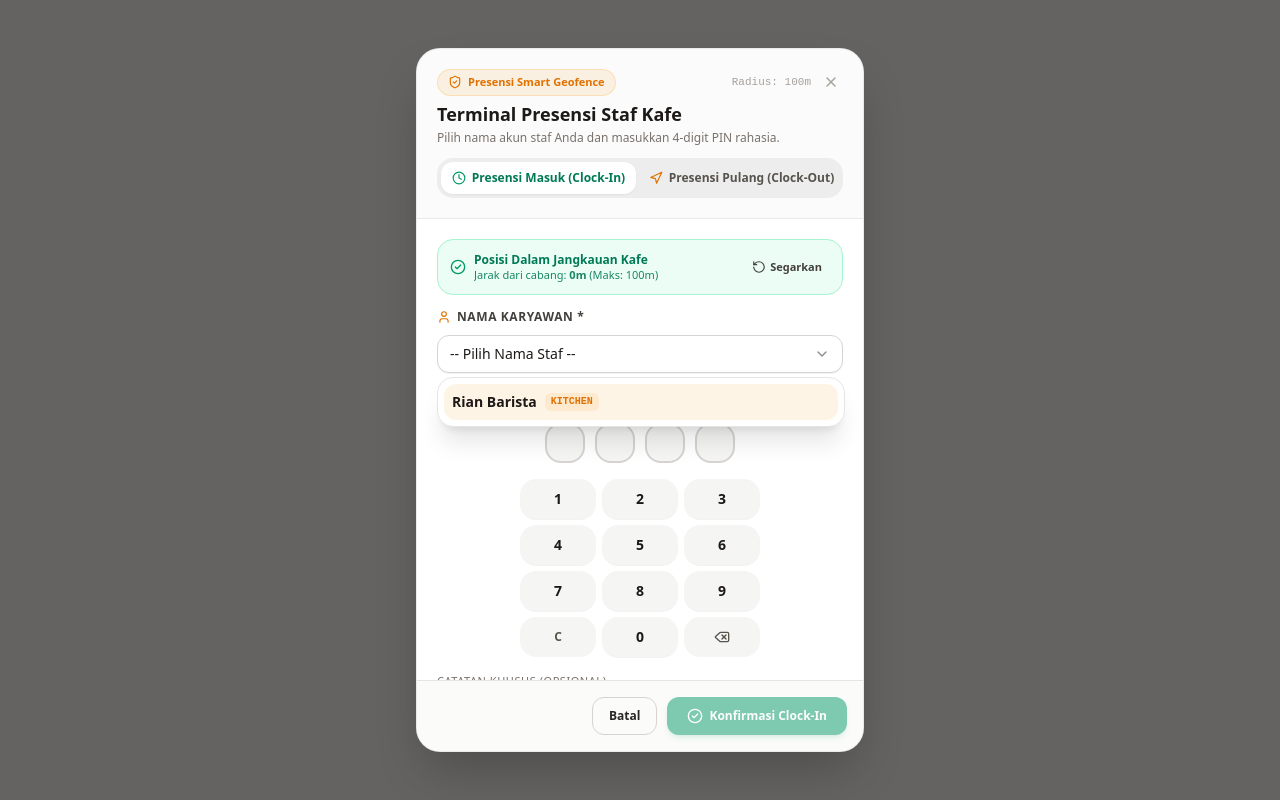
Test: ClockInModal Component › disables submit button when staff is not selected or PIN is incomplete
The width and height of the screenshot is (1280, 800).
Earlier steps of the test are not shown.
What coordinates should you click on to do the following:
click the text "Rian Barista"
I would click on:
 (494, 402)
Its box is [452,392,537,412].
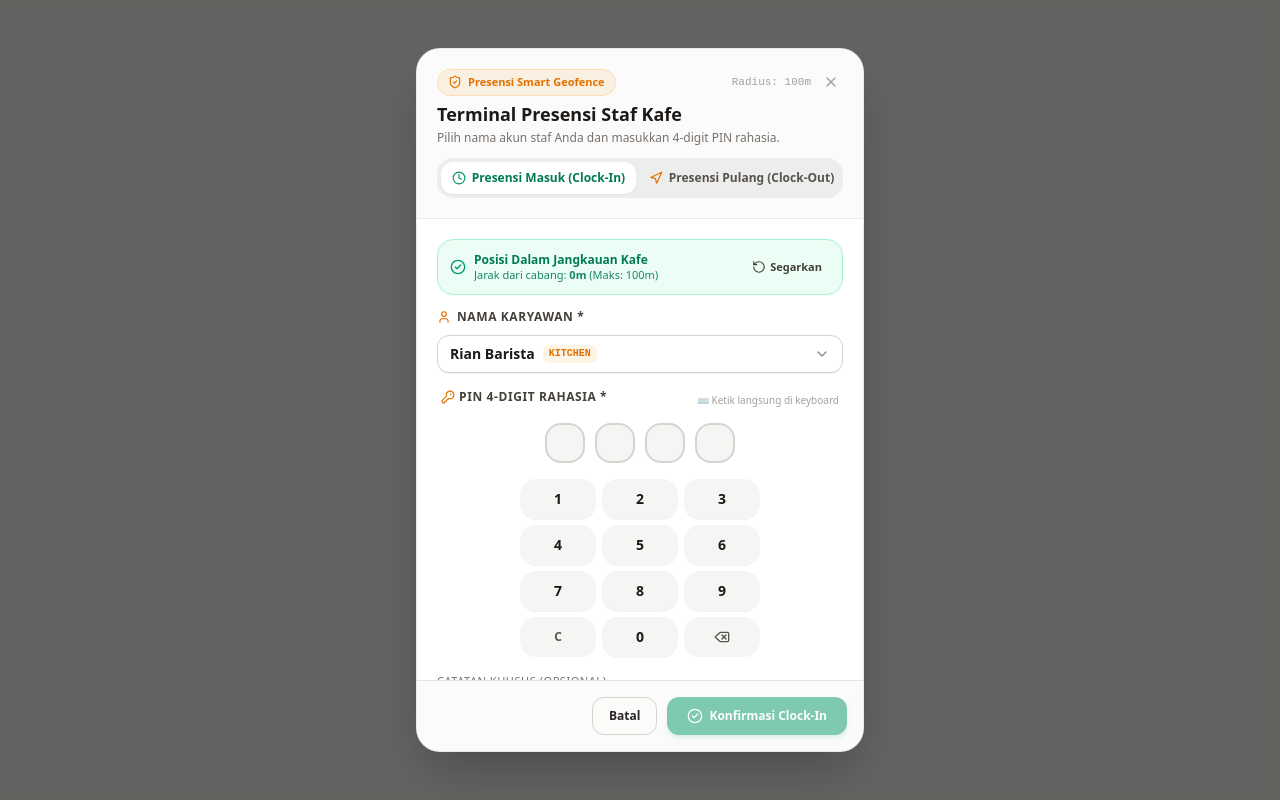
Expected: the button "Konfirmasi Clock-In" is disabled, [667,697,847,735]
What coordinates should you click on to do the following:
click the button "1"
I would click on:
 (558, 499)
Its box is [520,479,596,519].
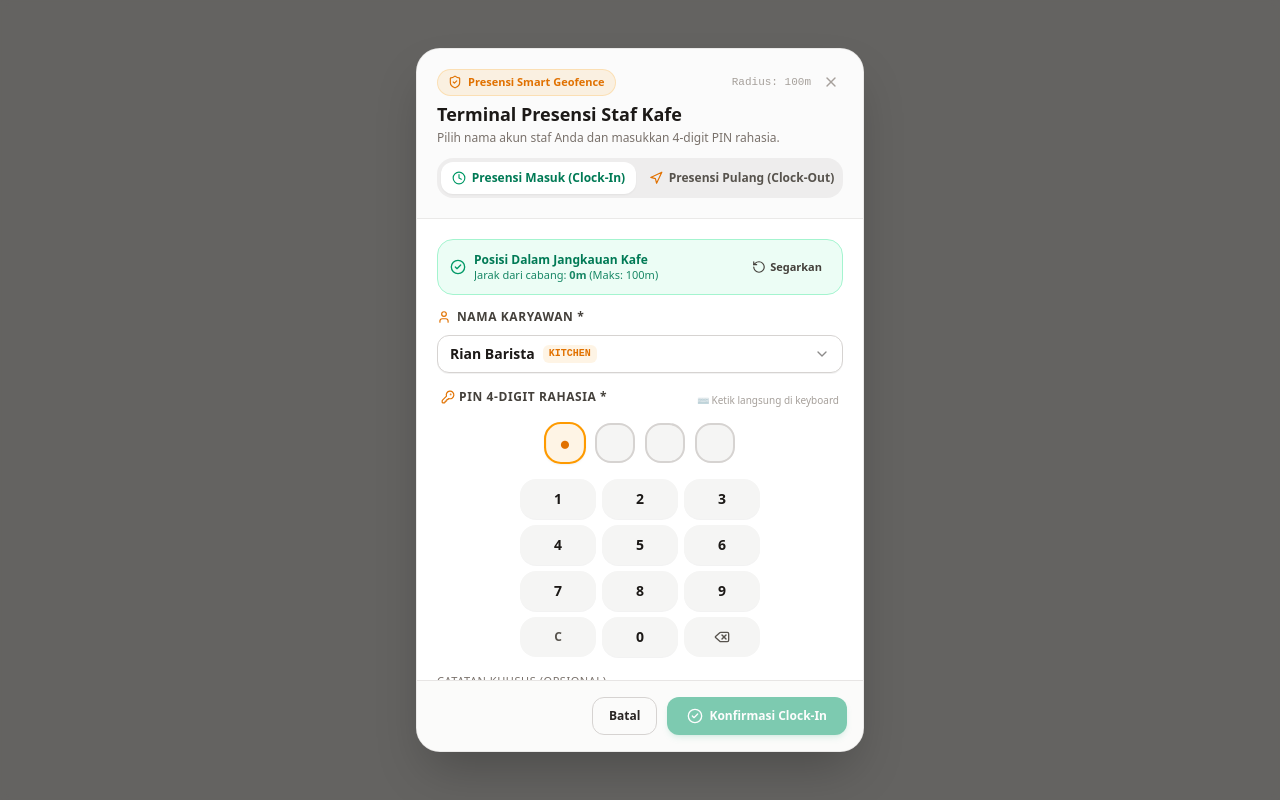
What coordinates should you click on to do the following:
click the button "2"
I would click on:
 (640, 499)
Its box is [602,479,678,519].
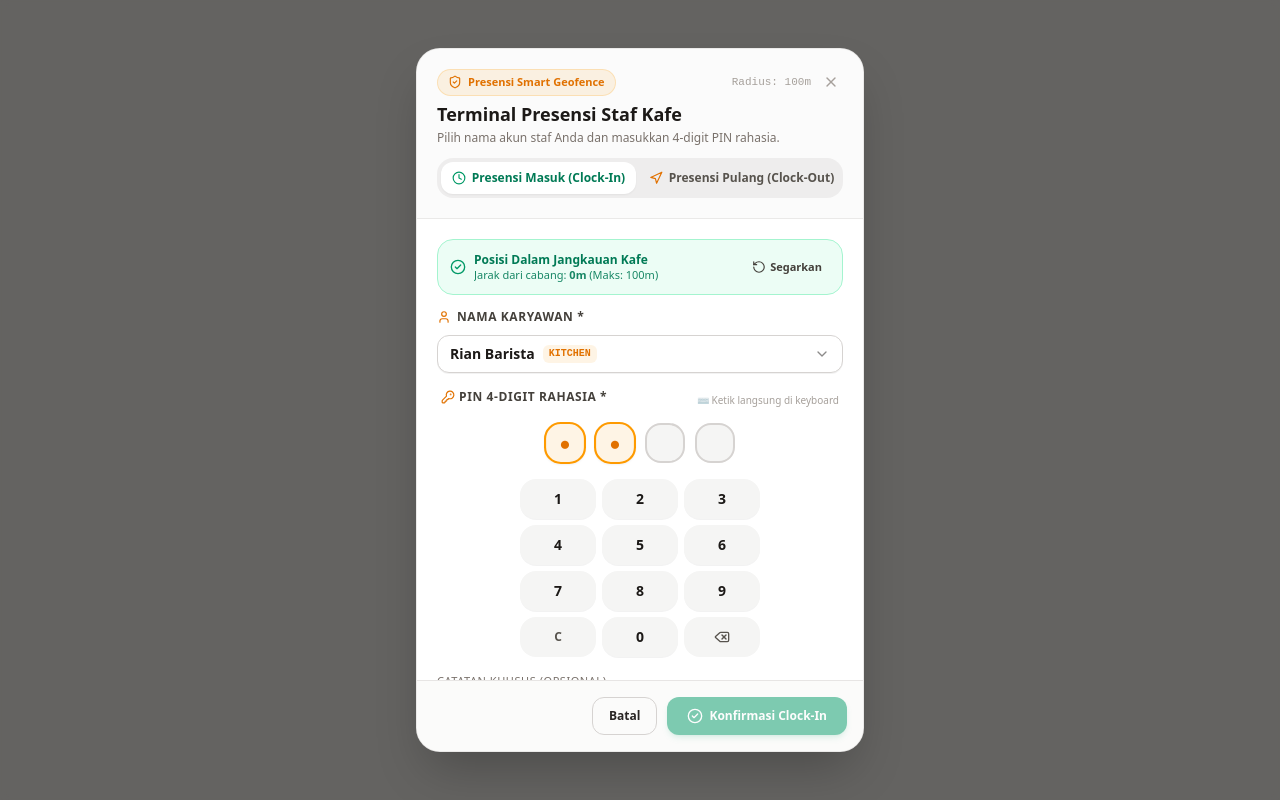
Expected: the button "Konfirmasi Clock-In" is disabled, [667,697,847,735]
What coordinates should you click on to do the following:
click the button "3"
I would click on:
 (722, 499)
Its box is [684,479,760,519].
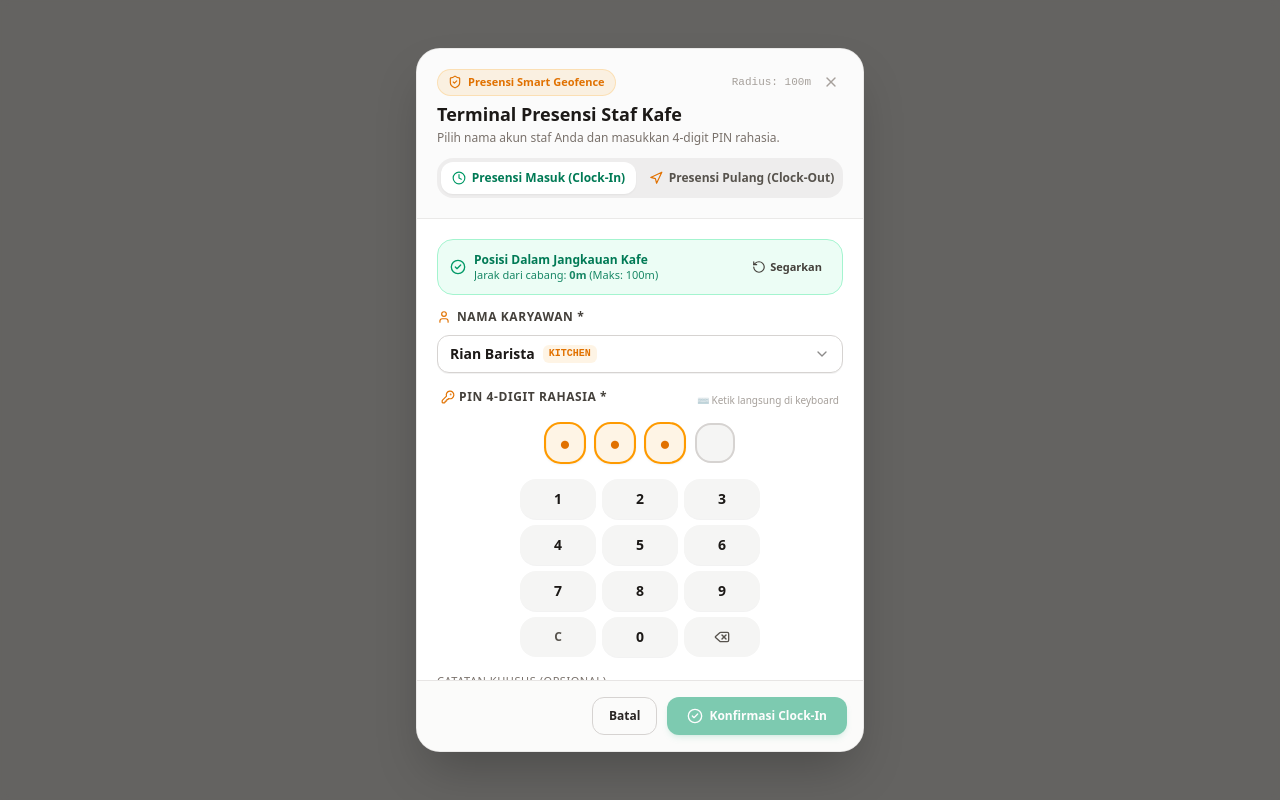
What coordinates should you click on to do the following:
click the button "4"
I would click on:
 (558, 545)
Its box is [520,525,596,565].
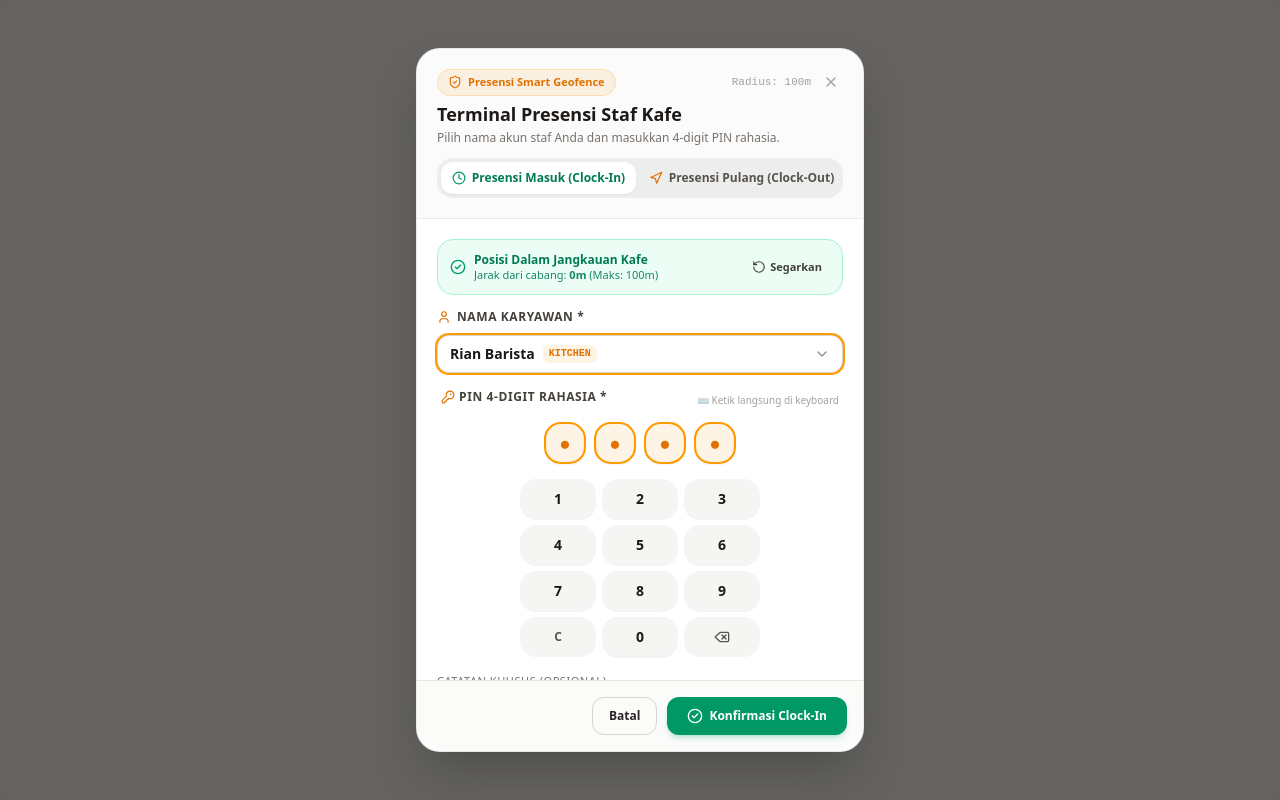
Result: the button "Konfirmasi Clock-In" is enabled at [667,697,847,735]
